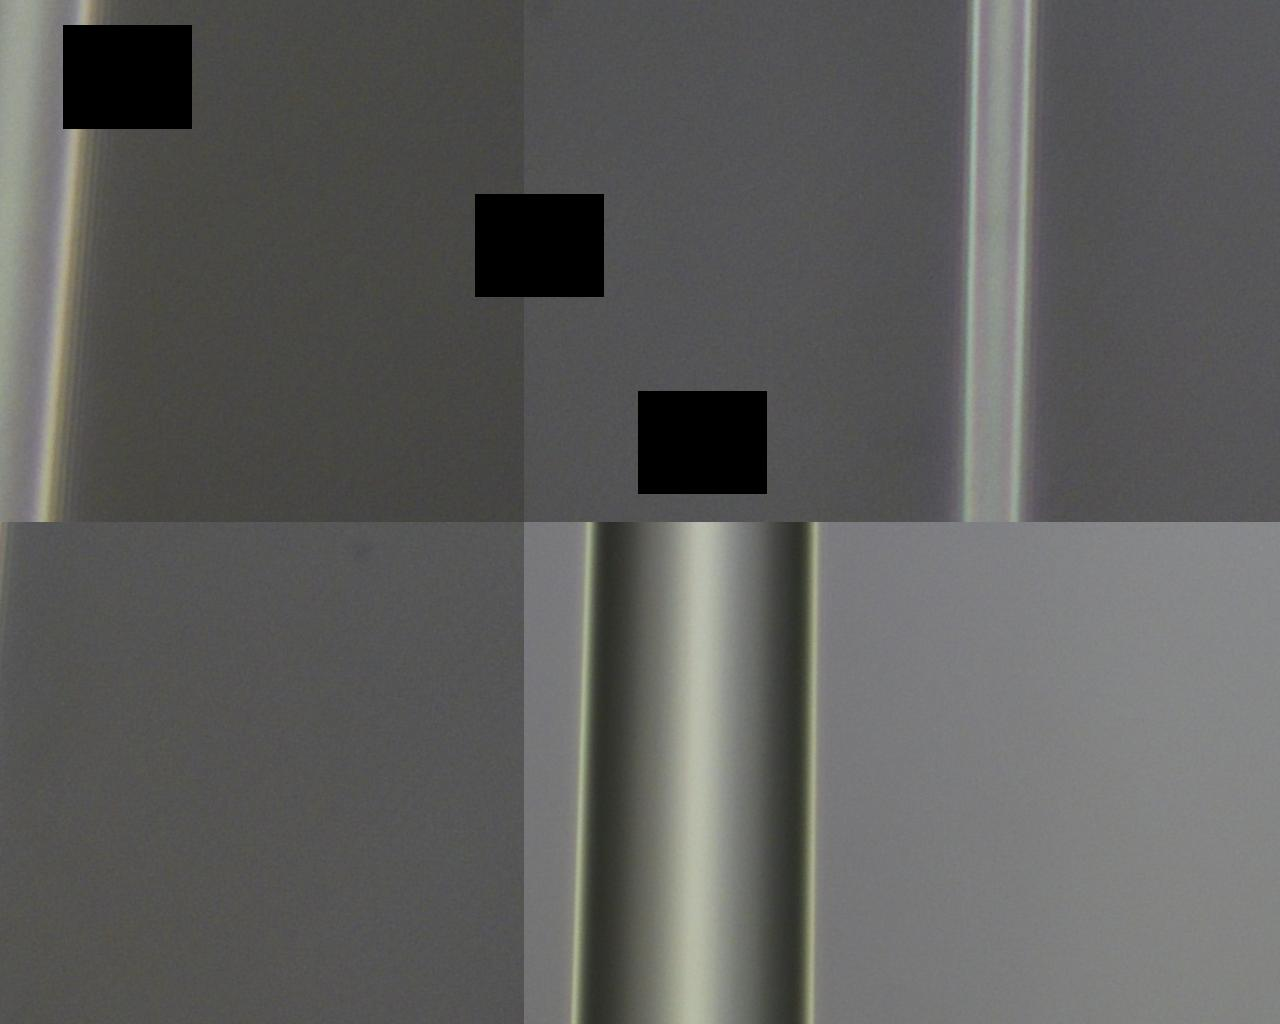fiber: (639, 0, 1057, 193), (753, 471, 875, 1024), (273, 0, 403, 471), (360, 471, 417, 1024)
